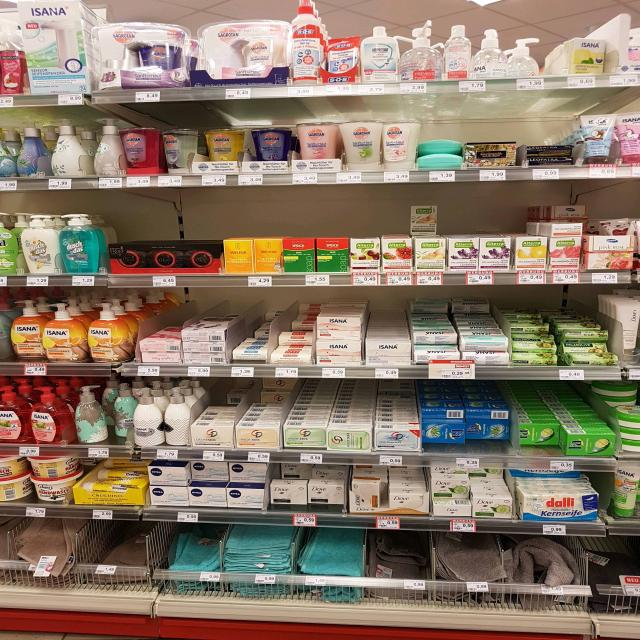empty: (535, 30, 570, 80)
